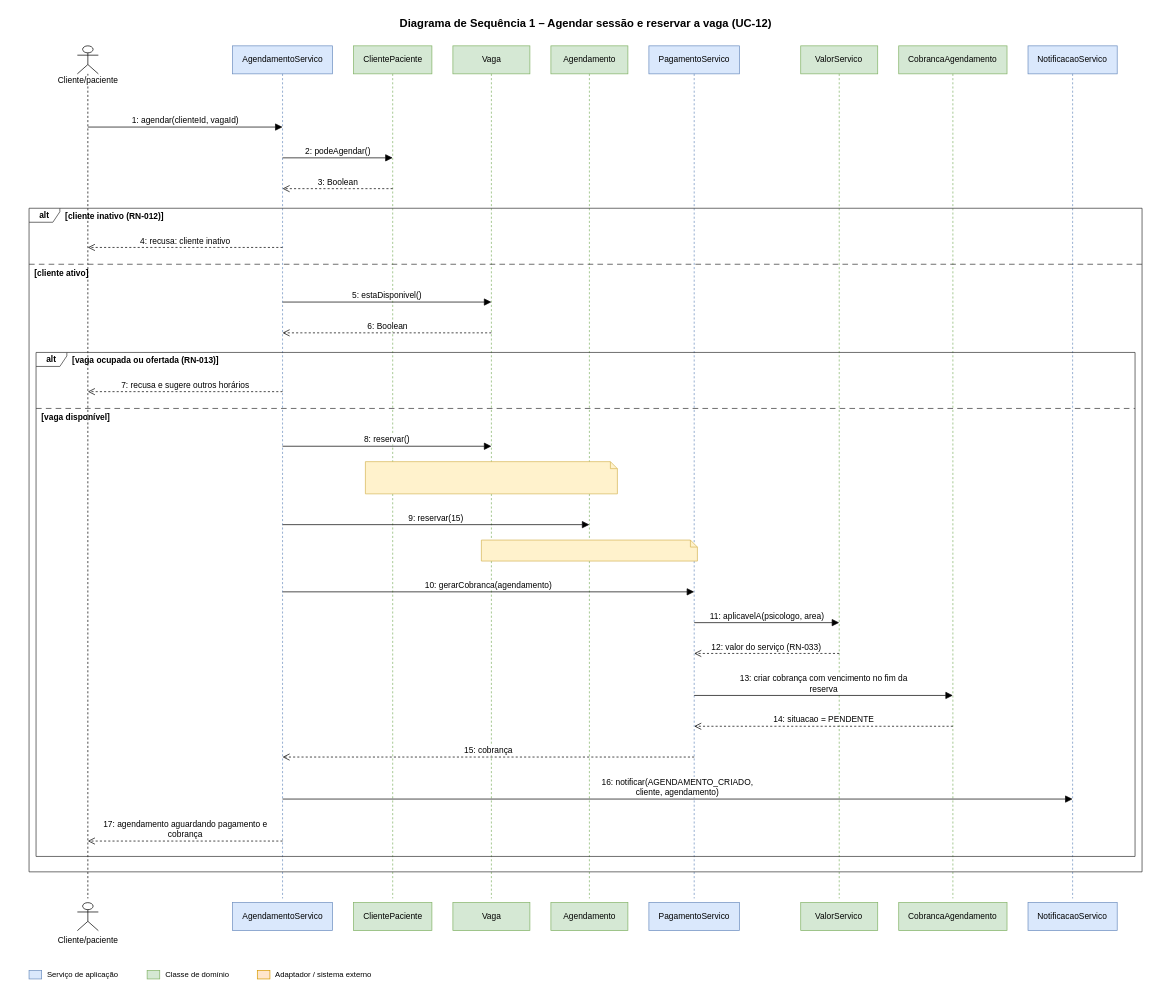
Some shapes in this 1170 by 993 pixel diagram are drawn without their labels. The box of each missing label's shape, as (x1, y1, x2, y2) in pixels:
situacao = AGUARDANDO_PAGAMENTO (RN-014): (481, 539, 697, 561)
versao incrementa; UNIQUE e controle otimista impedem reserva dupla: (365, 461, 617, 494)
